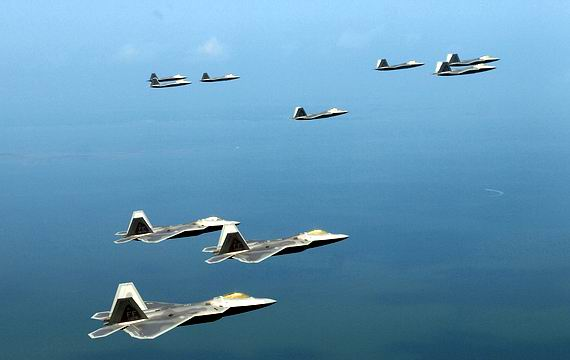airplane: (82, 272, 277, 345), (198, 217, 349, 268), (112, 205, 242, 248), (429, 60, 496, 80), (287, 103, 347, 122), (372, 55, 427, 73), (442, 51, 502, 64), (148, 77, 192, 92), (197, 72, 242, 84), (143, 73, 190, 81)
